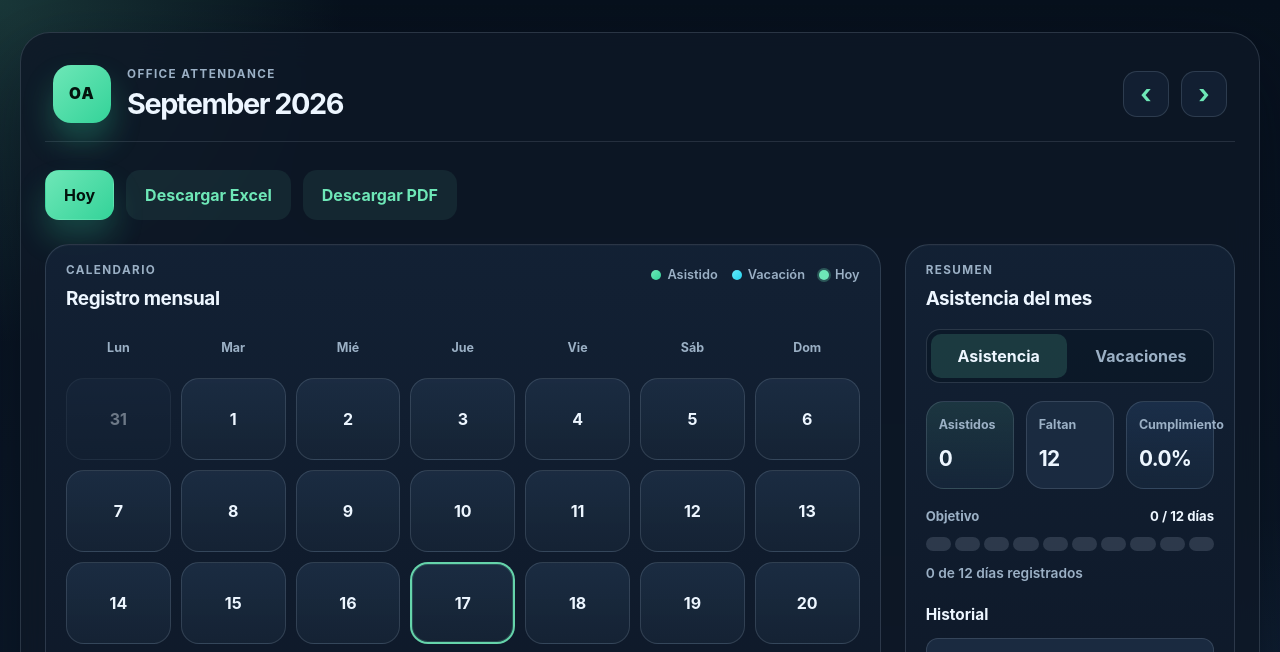
App › shows the remaining vacation balance
Click the tab "Vacaciones" at (1141, 356), box [1073,334,1209,378]
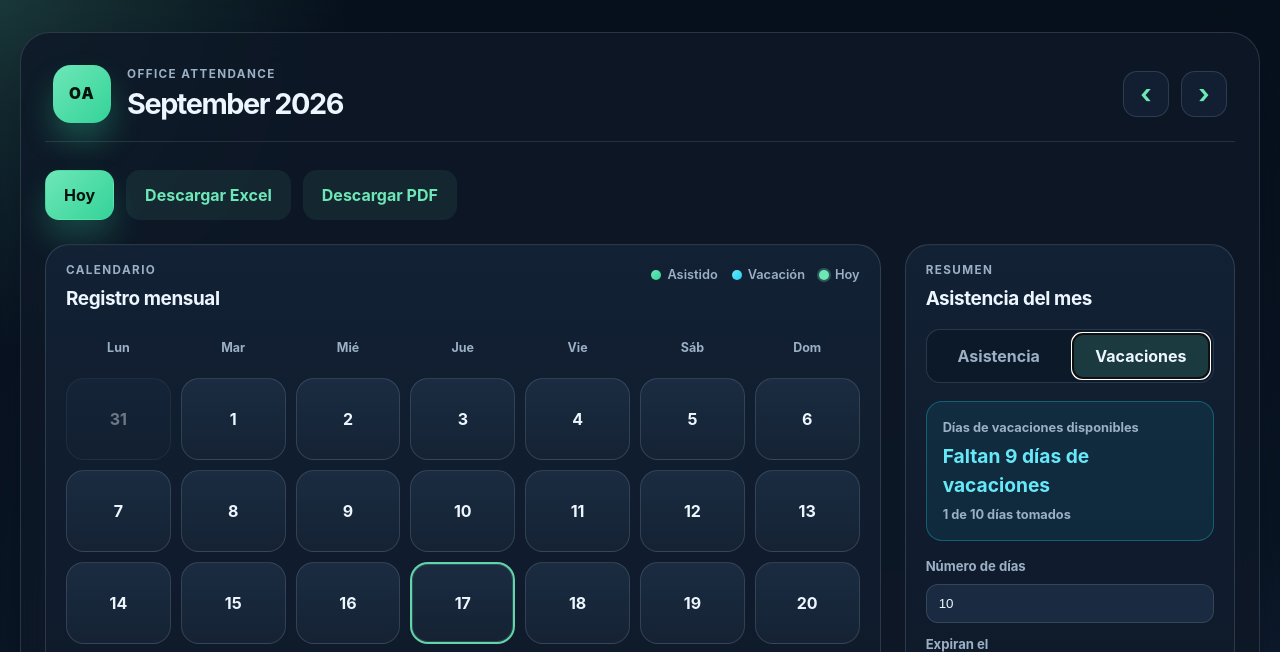
Now the text "Faltan 9 días de vacaciones" is shown, box [943,444,1089,497]
